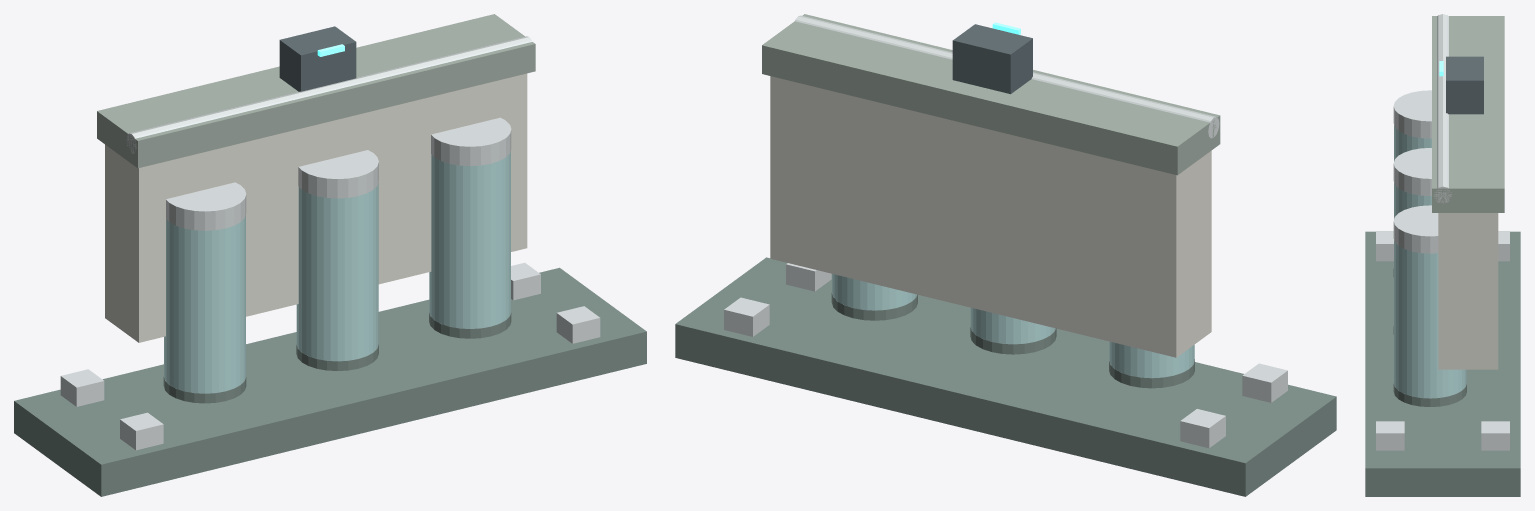
The model's file is s7-i02-filter-triple.glb.
The picture shows the model from 3 angles, left to right: view 1: azimuth 30°, elevation 25°; view 2: azimuth 150°, elevation 25°; view 3: azimuth 270°, elevation 25°; orthographic projection. The views are drawn at different scales.
Parts seen in each view (by area): view 1: 000_reinforced_industrial_base, 005_filtration_backplate, 006_water_manifold_top, 014_filter_translucent_canister_1, 007_filter_translucent_canister_0, 021_filter_translucent_canister_2, 029_filter_status_controller, 028_cleanwater_trunk, 009_steel_filter_cap_0, 016_steel_filter_cap_1, 023_steel_filter_cap_2, 001_mounting_foot (+6 smaller); view 2: 005_filtration_backplate, 000_reinforced_industrial_base, 006_water_manifold_top, 029_filter_status_controller, 028_cleanwater_trunk, 007_filter_translucent_canister_0, 014_filter_translucent_canister_1, 021_filter_translucent_canister_2, 001_mounting_foot, 003_mounting_foot, 002_mounting_foot, 024_filter_bottom_lock_2 (+3 smaller); view 3: 000_reinforced_industrial_base, 006_water_manifold_top, 005_filtration_backplate, 021_filter_translucent_canister_2, 029_filter_status_controller, 028_cleanwater_trunk, 023_steel_filter_cap_2, 009_steel_filter_cap_0, 016_steel_filter_cap_1, 003_mounting_foot, 004_mounting_foot, 024_filter_bottom_lock_2 (+4 smaller).
Boxes of the visible parts, x1,y1,x2,y2 form: 000_reinforced_industrial_base: [14, 267, 646, 496]; 005_filtration_backplate: [105, 73, 527, 342]; 006_water_manifold_top: [97, 14, 535, 168]; 014_filter_translucent_canister_1: [296, 182, 378, 361]; 007_filter_translucent_canister_0: [164, 215, 245, 393]; 021_filter_translucent_canister_2: [429, 151, 510, 328]; 029_filter_status_controller: [279, 26, 356, 91]; 028_cleanwater_trunk: [126, 36, 532, 153]; 009_steel_filter_cap_0: [166, 182, 246, 230]; 016_steel_filter_cap_1: [298, 150, 378, 198]; 023_steel_filter_cap_2: [431, 117, 511, 165]; 001_mounting_foot: [60, 369, 104, 406]; 005_filtration_backplate: [770, 76, 1211, 357]; 000_reinforced_industrial_base: [675, 257, 1336, 496]; 006_water_manifold_top: [762, 14, 1220, 175]; 029_filter_status_controller: [952, 24, 1032, 94]; 028_cleanwater_trunk: [795, 15, 1219, 138]; 007_filter_translucent_canister_0: [1109, 341, 1194, 377]; 014_filter_translucent_canister_1: [970, 307, 1055, 344]; 021_filter_translucent_canister_2: [832, 274, 916, 310]; 001_mounting_foot: [1180, 409, 1225, 448]; 003_mounting_foot: [724, 297, 769, 336]; 002_mounting_foot: [1242, 363, 1287, 402]; 024_filter_bottom_lock_2: [831, 292, 917, 320]; 000_reinforced_industrial_base: [1365, 231, 1520, 496]; 006_water_manifold_top: [1432, 16, 1504, 212]; 005_filtration_backplate: [1438, 213, 1498, 369]; 021_filter_translucent_canister_2: [1394, 240, 1466, 398]; 029_filter_status_controller: [1446, 56, 1483, 114]; 028_cleanwater_trunk: [1434, 14, 1451, 203]; 023_steel_filter_cap_2: [1393, 205, 1438, 253]; 009_steel_filter_cap_0: [1393, 90, 1431, 138]; 016_steel_filter_cap_1: [1393, 148, 1431, 195]; 003_mounting_foot: [1481, 421, 1509, 450]; 004_mounting_foot: [1376, 421, 1404, 450]; 024_filter_bottom_lock_2: [1393, 382, 1466, 406].
Bounding box in the file's own units: 1.77 × 1.09 × 0.49.
